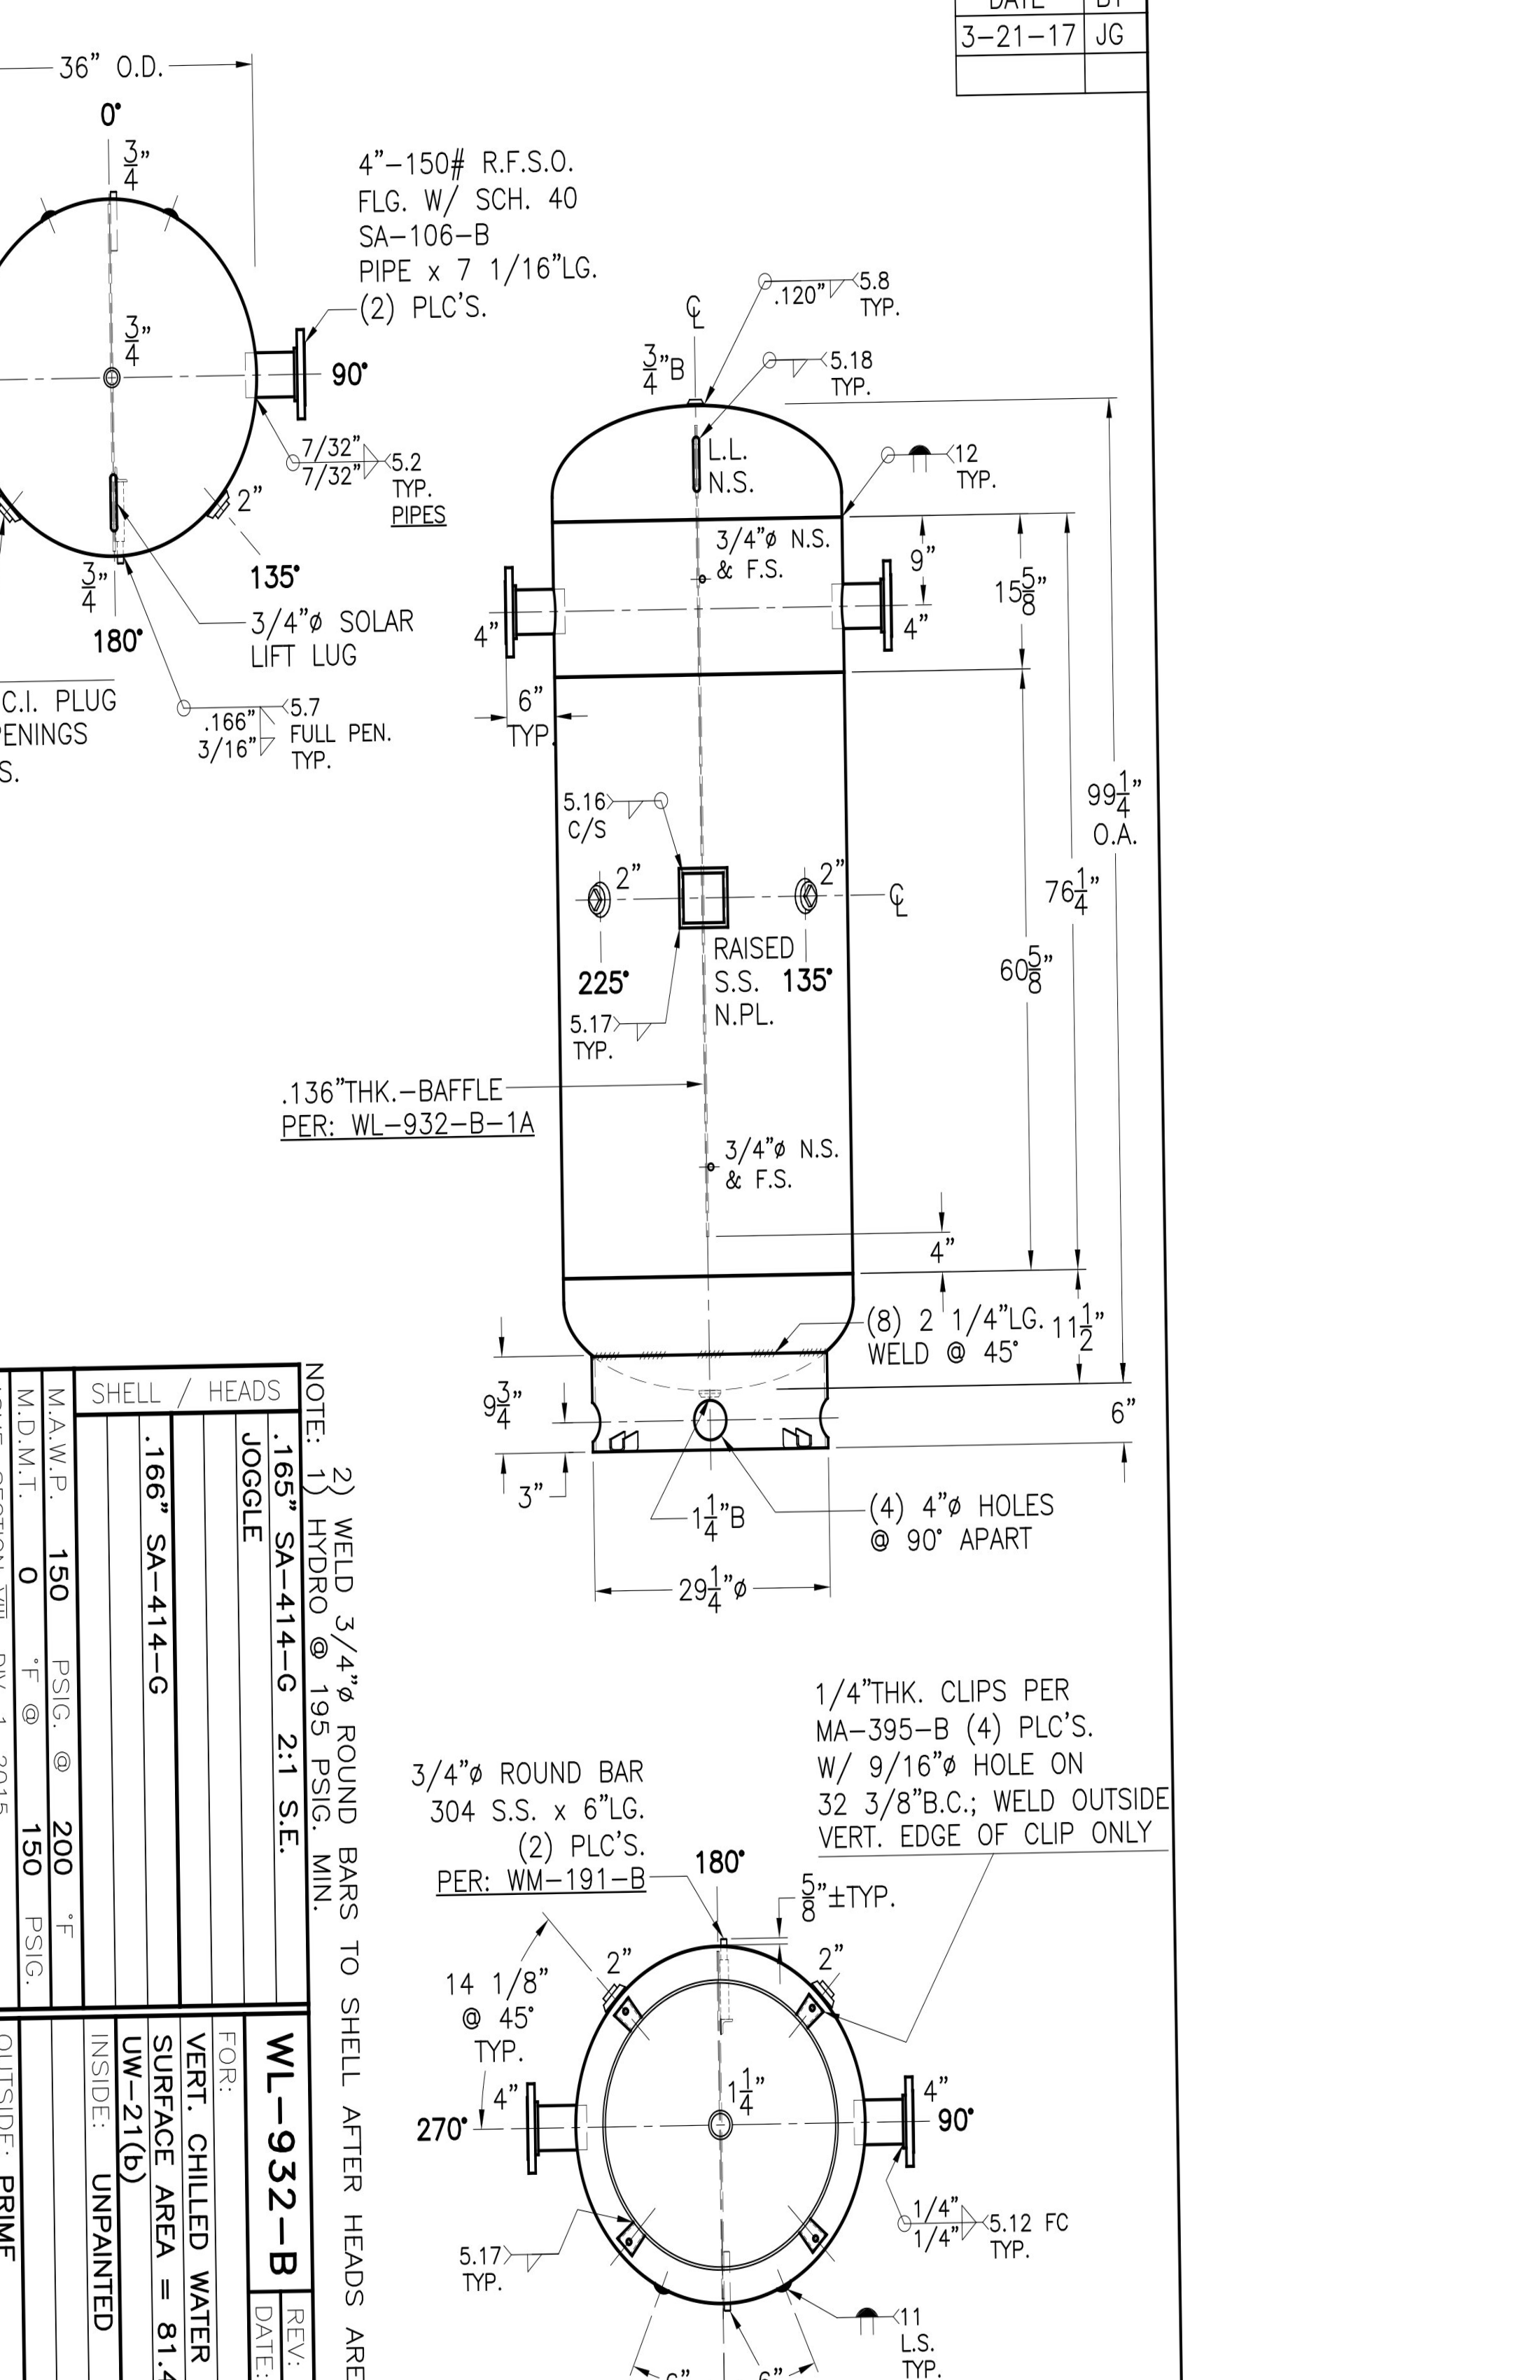Nozzle: (822, 545, 959, 689), (831, 2052, 947, 2200), (477, 538, 590, 677), (486, 2064, 598, 2191), (232, 312, 338, 416)
